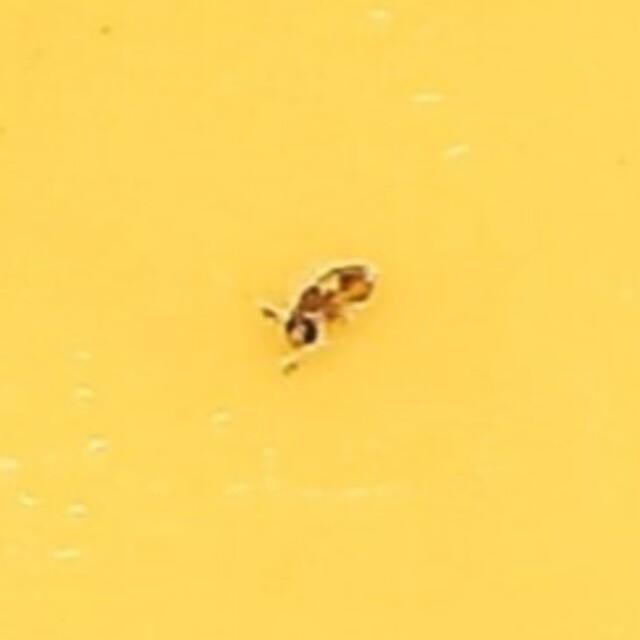Hymenoptera: (262, 260, 378, 380)
